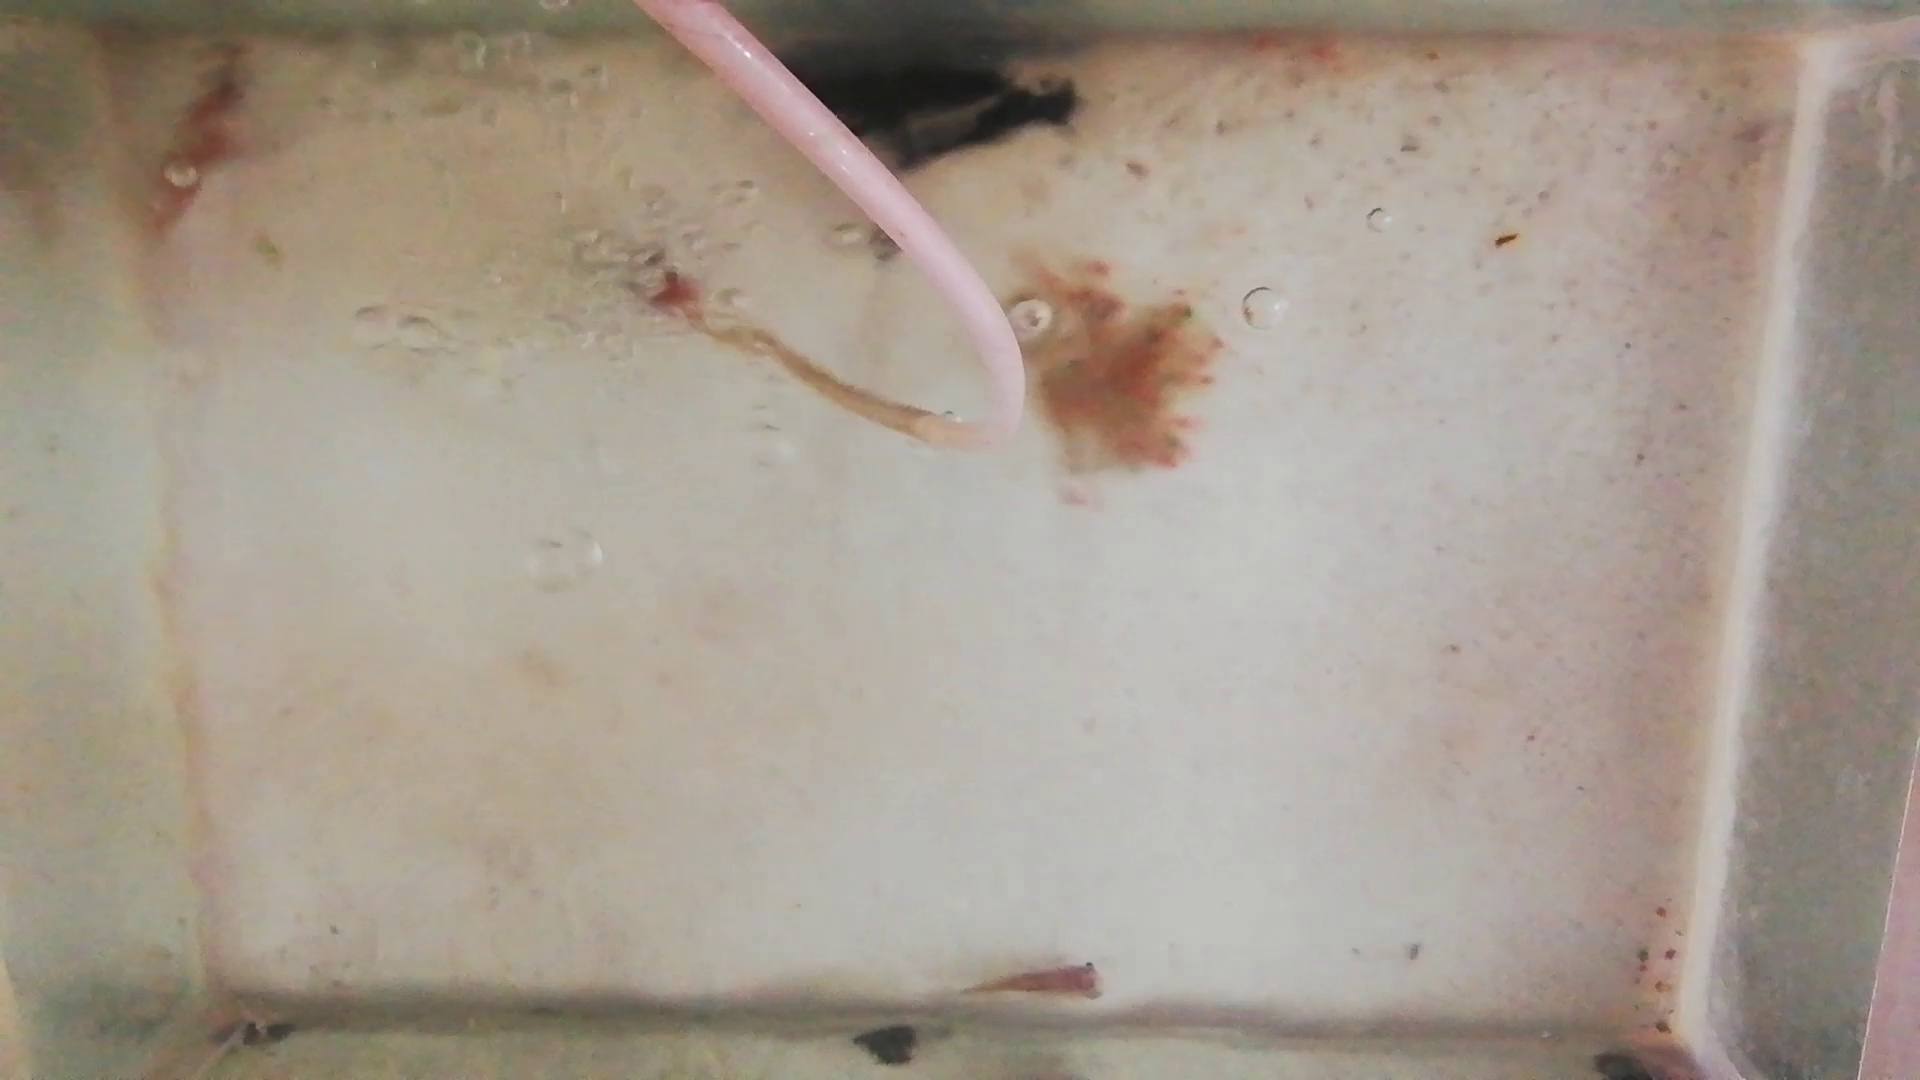fish: (142, 44, 257, 247), (963, 957, 1112, 1004)
